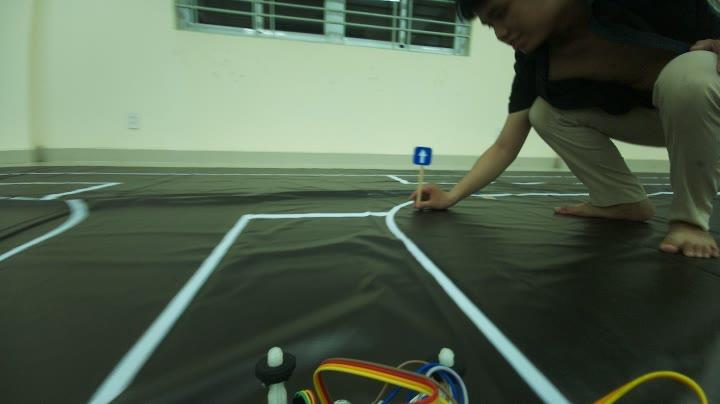onewayroad: (407, 140, 433, 166)
